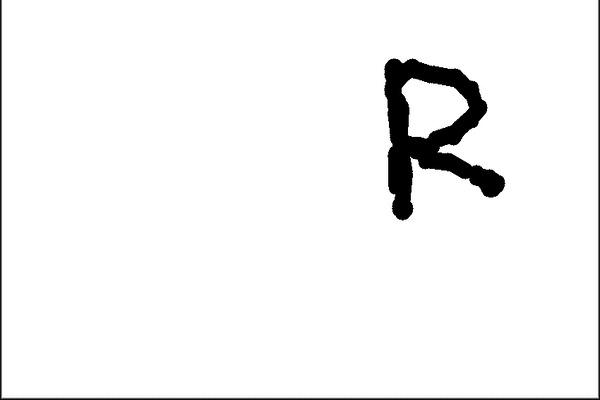R: (371, 47, 515, 228)
